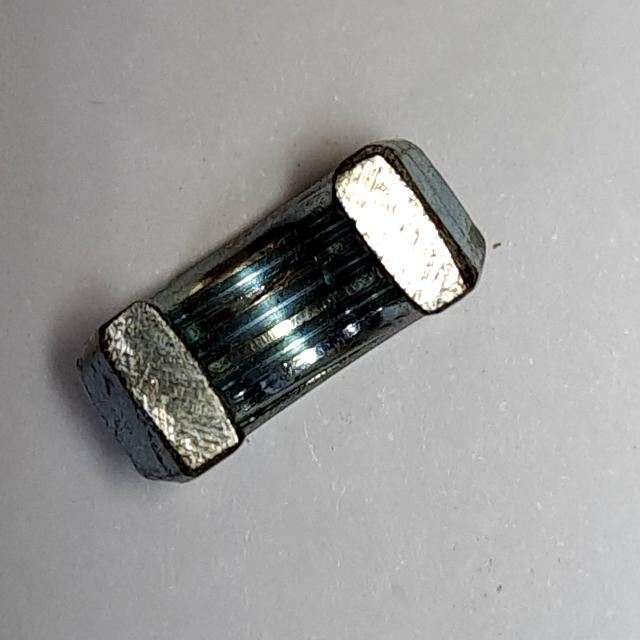Side-Fracture: (57, 123, 496, 497)
